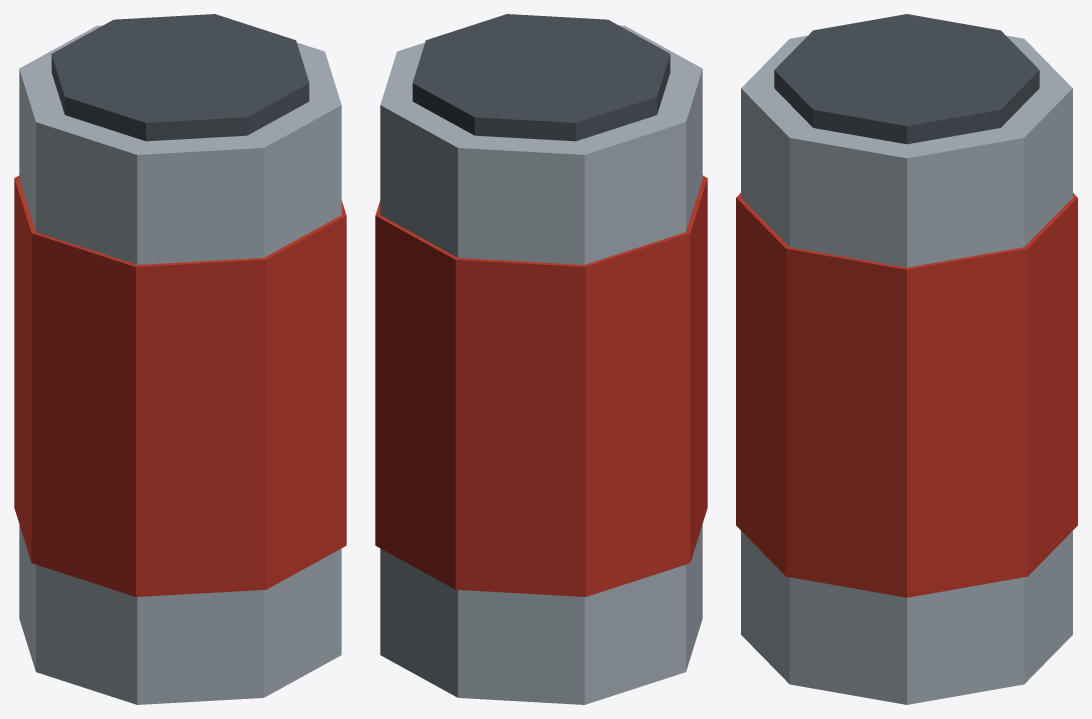
The model's file is FD_SodaCan_Red_01.glb.
3 views of the same model, side by side, from view 1: azimuth 30°, elevation 25°; view 2: azimuth 150°, elevation 25°; view 3: azimuth 270°, elevation 25° (orthographic).
Visible parts, largest first — view 1: FD_SodaCan_Red_01; view 2: FD_SodaCan_Red_01; view 3: FD_SodaCan_Red_01.
Boxes of the visible parts, x1,y1,x2,y2 form: FD_SodaCan_Red_01: (14,14,346,704); FD_SodaCan_Red_01: (375,14,707,704); FD_SodaCan_Red_01: (736,14,1077,704).
Size of the model in its own units: 0.068 by 0.124 by 0.068.
1 material, 1 textured.
